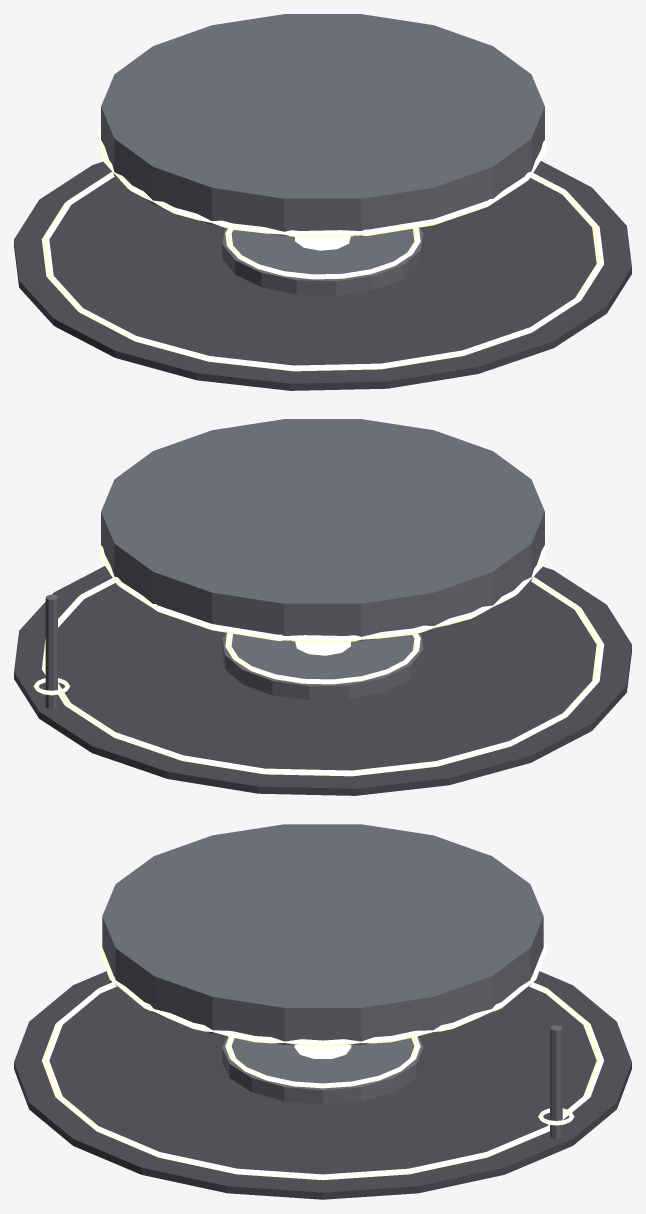
File: zone_low_2_t1.glb
The picture shows the model from 3 angles, top to bottom: view 1: azimuth 30°, elevation 25°; view 2: azimuth 150°, elevation 25°; view 3: azimuth 270°, elevation 25°; orthographic projection.
Visible parts, largest first — view 1: zone_low_2_t1, detail; view 2: zone_low_2_t1, detail; view 3: zone_low_2_t1, detail.
Part boxes in pixels (x1,y1,x2,y2): zone_low_2_t1: [14, 14, 631, 390]; detail: [41, 171, 603, 371]; zone_low_2_t1: [14, 419, 631, 795]; detail: [33, 576, 604, 776]; zone_low_2_t1: [14, 824, 631, 1199]; detail: [42, 982, 603, 1180].
Bounding box in the file's own units: 19.6 × 5.36 × 19.6.
